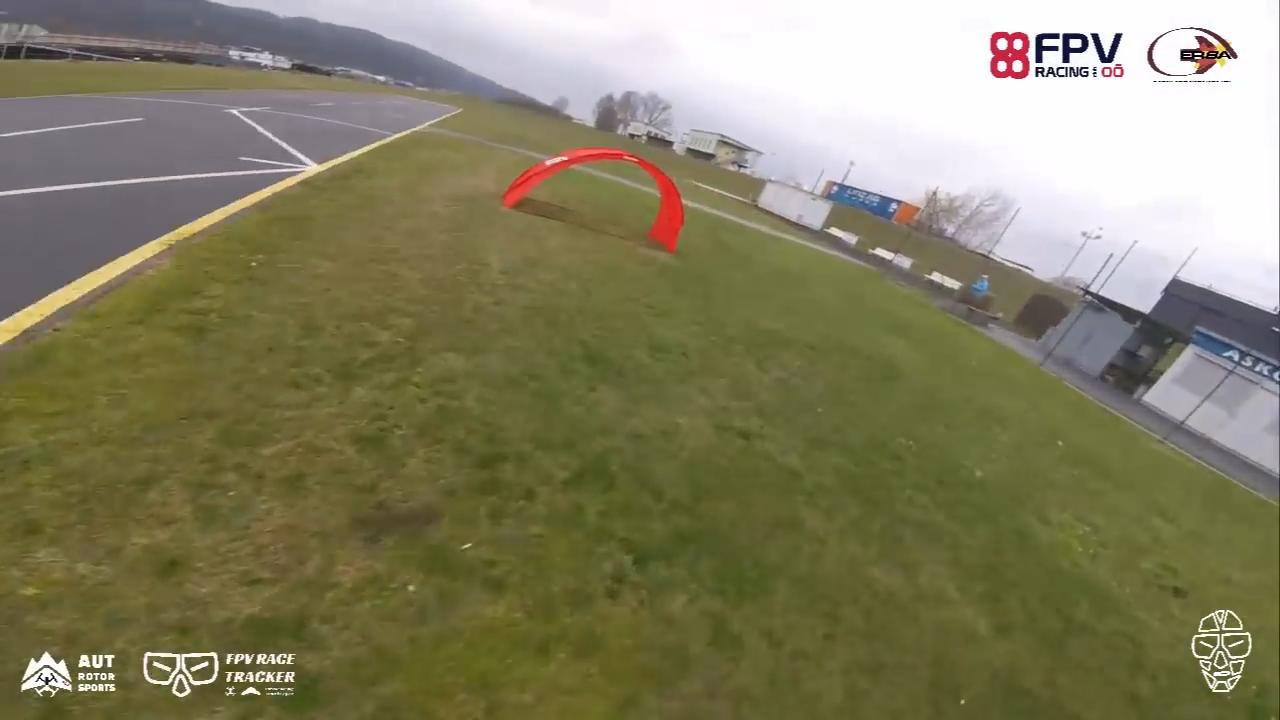gate: (497, 146, 691, 255)
